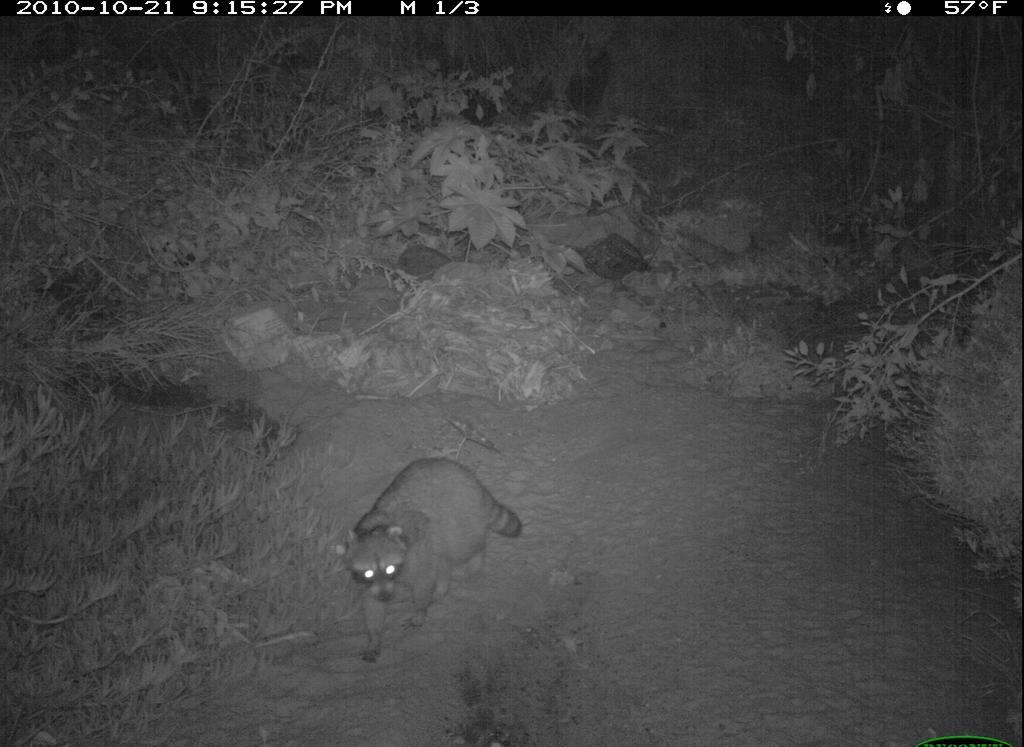raccoon: (314, 436, 543, 667)
